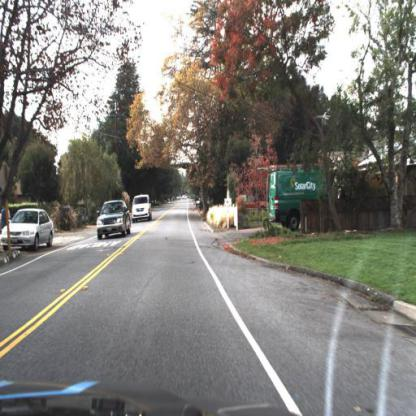car: (265, 166, 351, 229), (2, 206, 55, 251), (95, 200, 132, 242), (132, 194, 154, 222)
truck: (264, 164, 321, 228)
